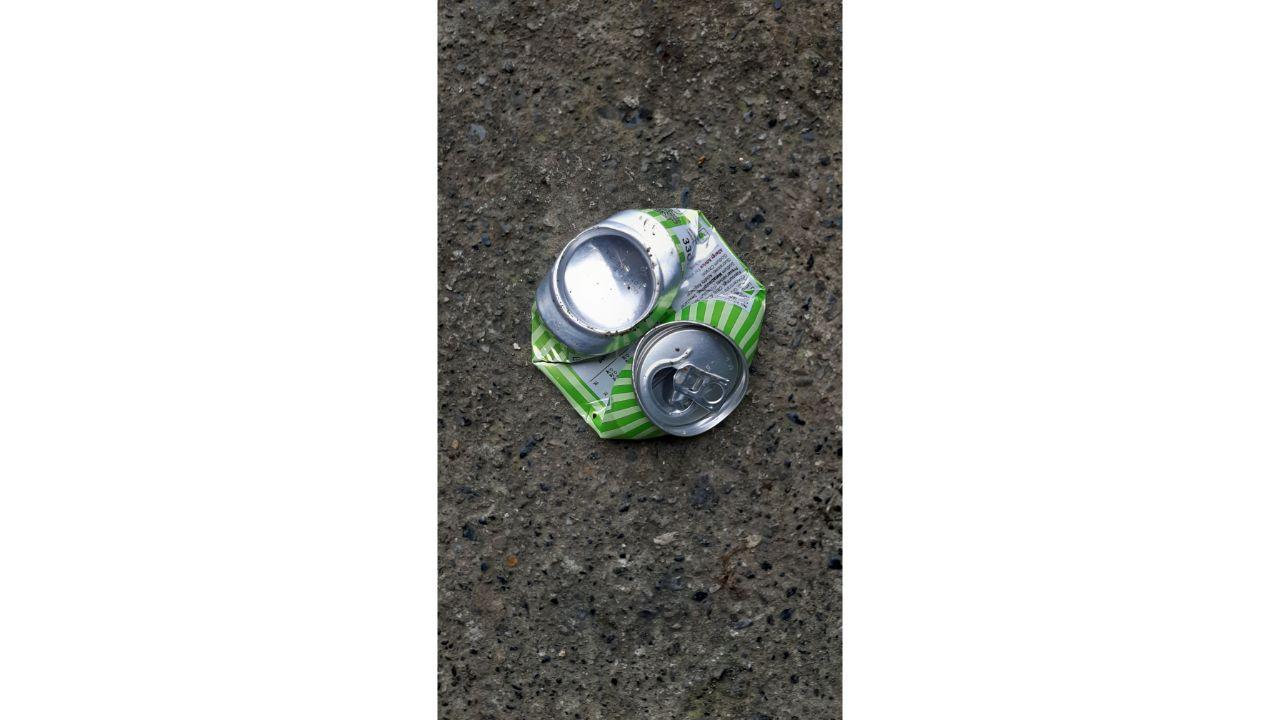Can: (529, 208, 768, 441)
